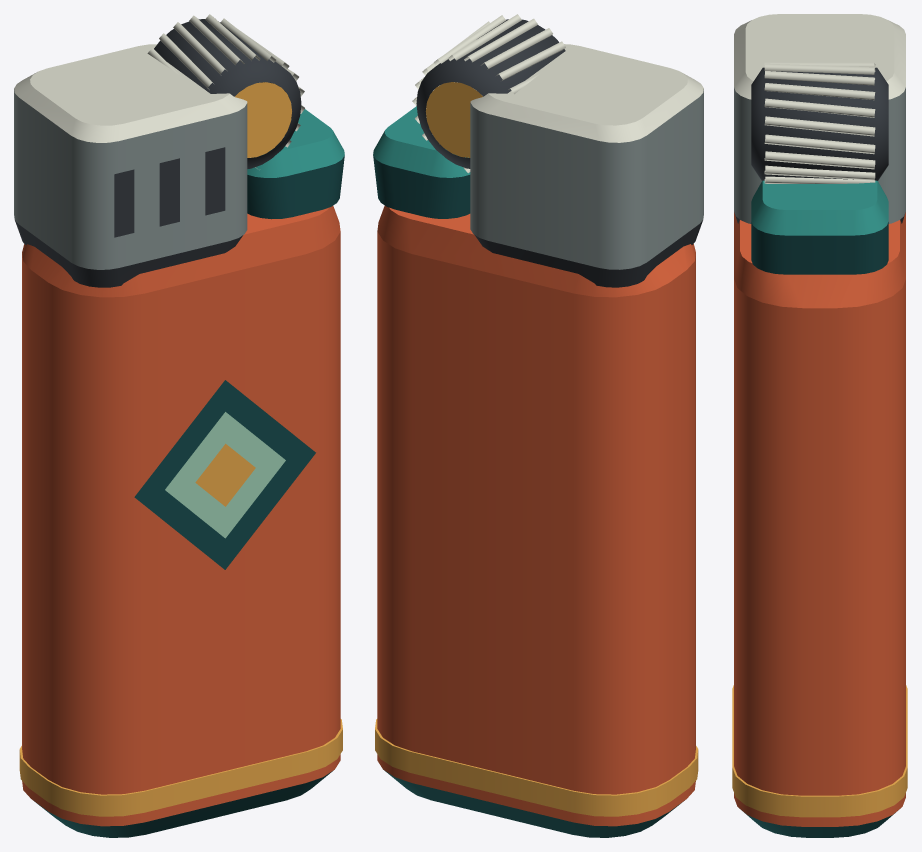
Rendered from lighter.glb.
3 renders of one model, left to right at view 1: azimuth 30°, elevation 25°; view 2: azimuth 150°, elevation 25°; view 3: azimuth 270°, elevation 25°, orthographic.
Parts seen in each view (by area): view 1: Body, Wheel; view 2: Body, Wheel; view 3: Body, Wheel.
Part boxes in pixels (x1=…): Body: x1=14, y1=44, x2=344, y2=837; Wheel: x1=147, y1=14, x2=304, y2=168; Body: x1=373, y1=44, x2=703, y2=837; Wheel: x1=412, y1=14, x2=565, y2=173; Body: x1=732, y1=14, x2=907, y2=837; Wheel: x1=751, y1=62, x2=888, y2=183.
Bounding box in the file's own units: 0.0283 × 0.0705 × 0.0153.
